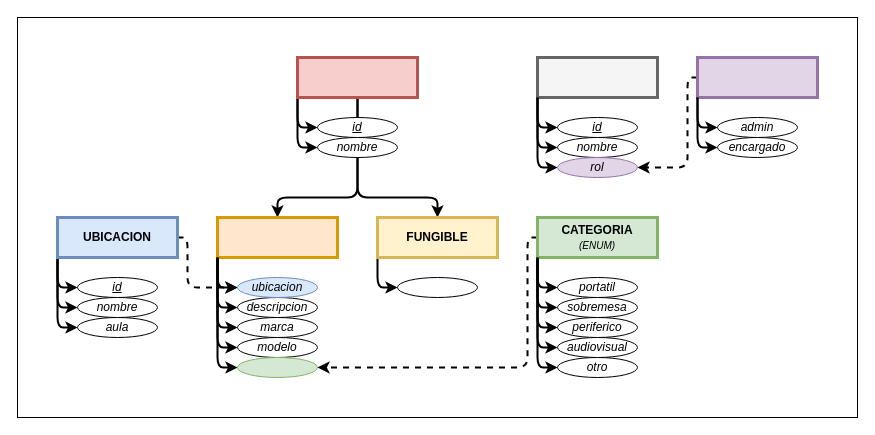
Image size: 875x435. Some labels were removed from this diagram. The shapes that lost their labels are listed below. From the top down, each one's centre as x and y in pixels, then its label:
At point (357, 77): "INVENTARIO".
At point (597, 77): "USUARIO".
At point (757, 77): "ROL (ENUM)".
At point (277, 237): "EQUIPO".
At point (437, 287): "stock".
At point (277, 367): "categoria".
